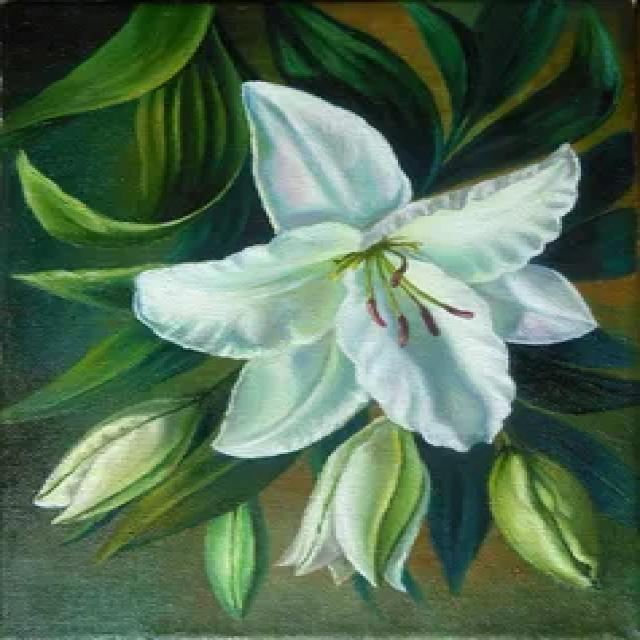lily: (115, 74, 612, 482)
